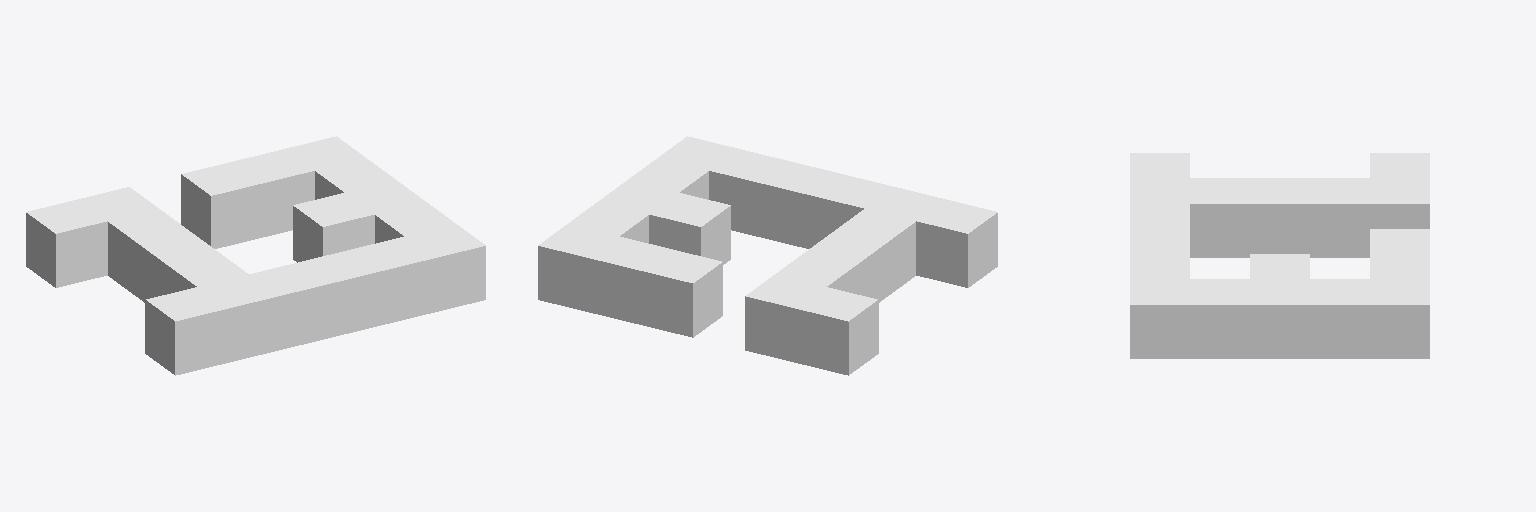
The model's file is Number-13.obj.
3 renders of one model, left to right at view 1: azimuth 30°, elevation 25°; view 2: azimuth 150°, elevation 25°; view 3: azimuth 270°, elevation 25°, orthographic.
Bounding box in the file's own units: 6 × 1 × 5.